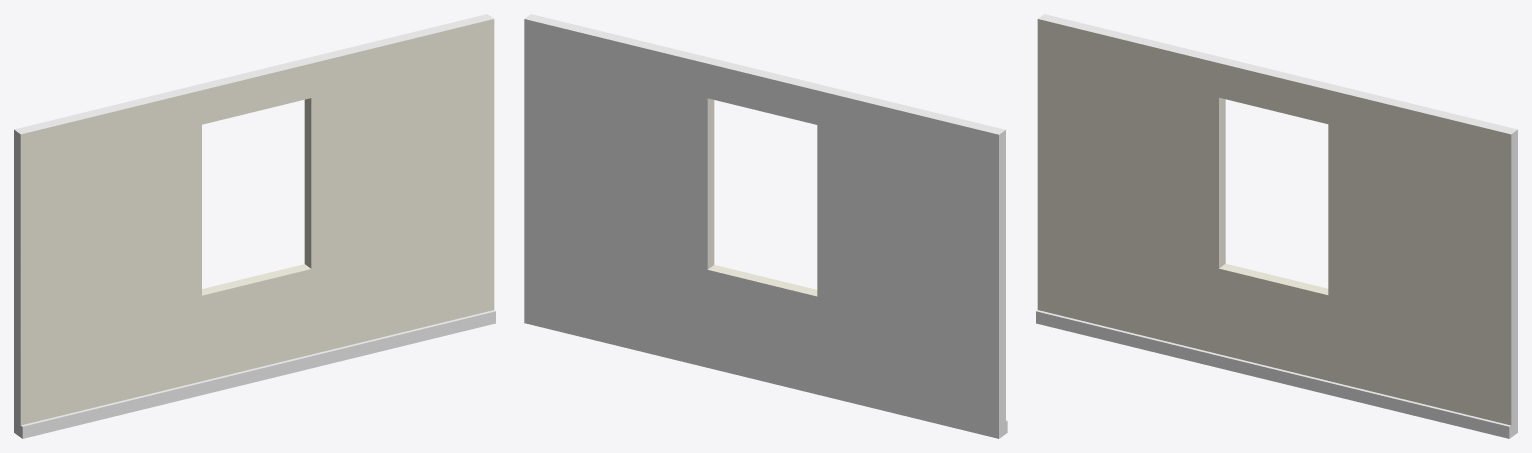
Rendered from Wall 1.FBX.
3 views of the same model, side by side, from view 1: azimuth 30°, elevation 25°; view 2: azimuth 150°, elevation 25°; view 3: azimuth 330°, elevation 25° (orthographic).
Visible parts, largest first — view 1: Wall 1; view 2: Wall 1; view 3: Wall 1.
Boxes of the visible parts, x1,y1,x2,y2 form: Wall 1: (14, 14, 495, 438); Wall 1: (524, 14, 1007, 438); Wall 1: (1036, 14, 1517, 438).
Size of the model in its own units: 361 by 221 by 11.22.
2 materials, 1 textured.
